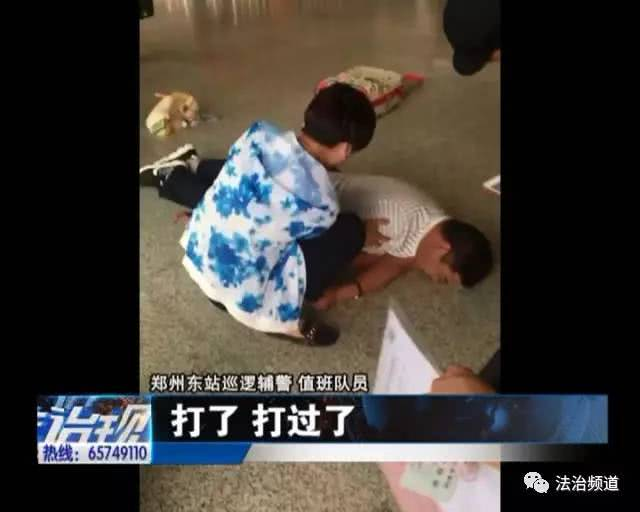fall: (295, 157, 494, 308)
